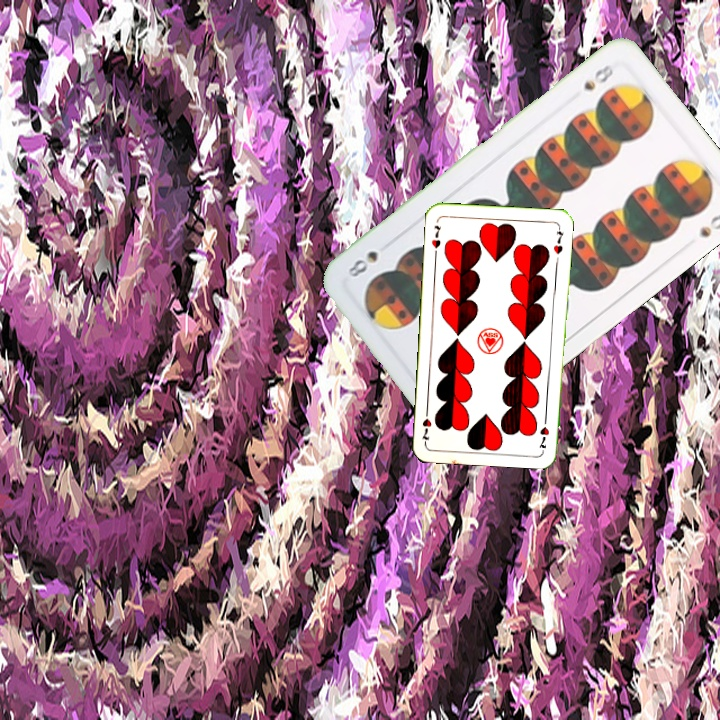H7: (536, 412, 552, 453), (427, 221, 444, 251)
S8: (579, 59, 616, 94)
